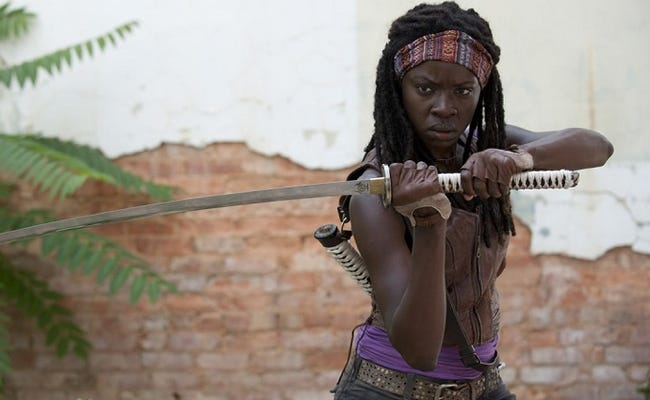-: (313, 3, 613, 396)
